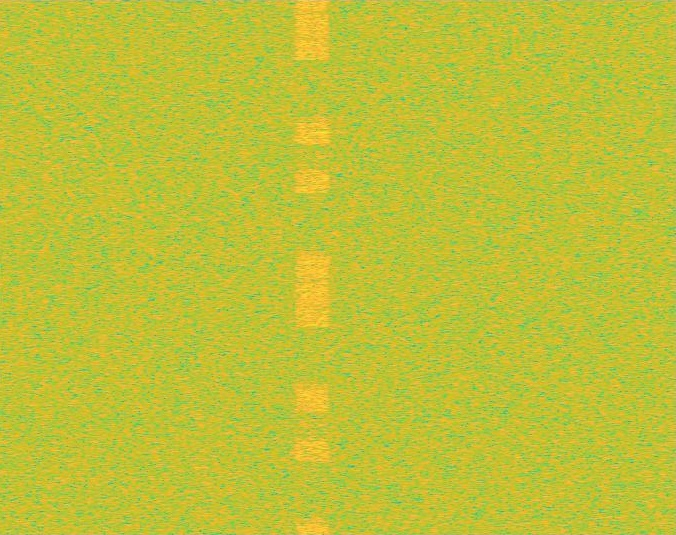LTE: (297, 0, 331, 534)
Radar: (315, 0, 328, 534)
